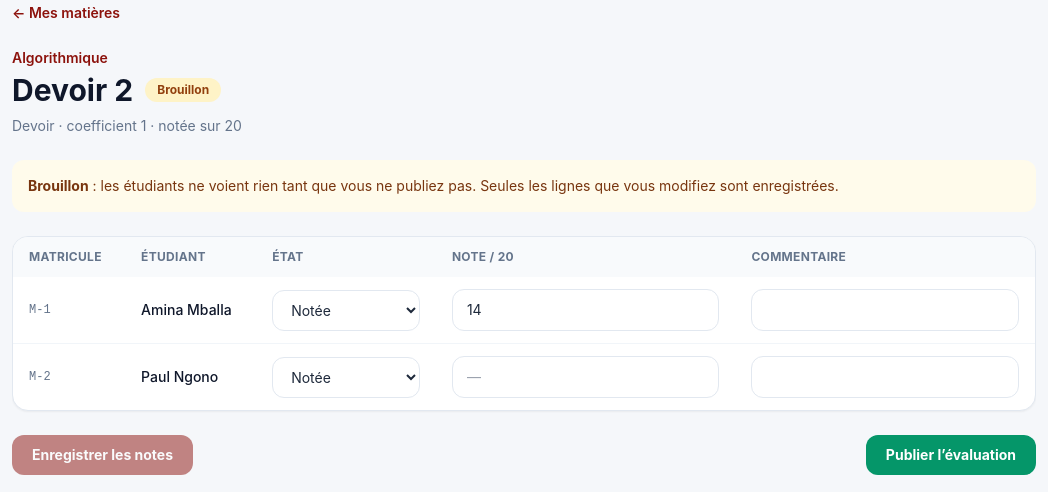
Test: grille de saisie des notes (brouillon) › « Annuler mes modifications » rétablit les valeurs enregistrées
Replace the text in the field named "Note de Amina Mballa" with "3" at coordinates (586, 310), box [452,289,719,331]
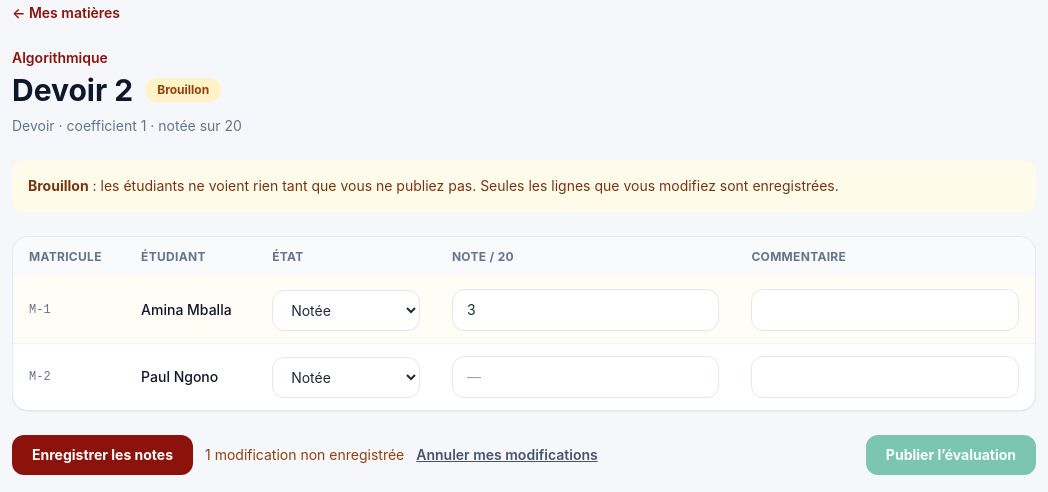
Click the button "Annuler mes modifications" at coordinates (507, 455), box [416,445,598,465]
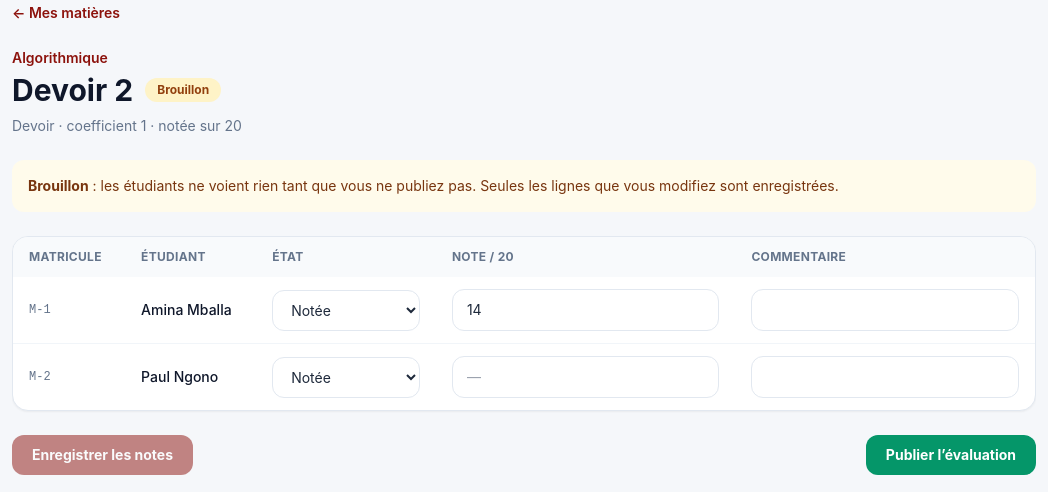
Now the field named "Note de Amina Mballa" holds "14", box [452,289,719,331]
Now the text "non enregistrée" is gone
